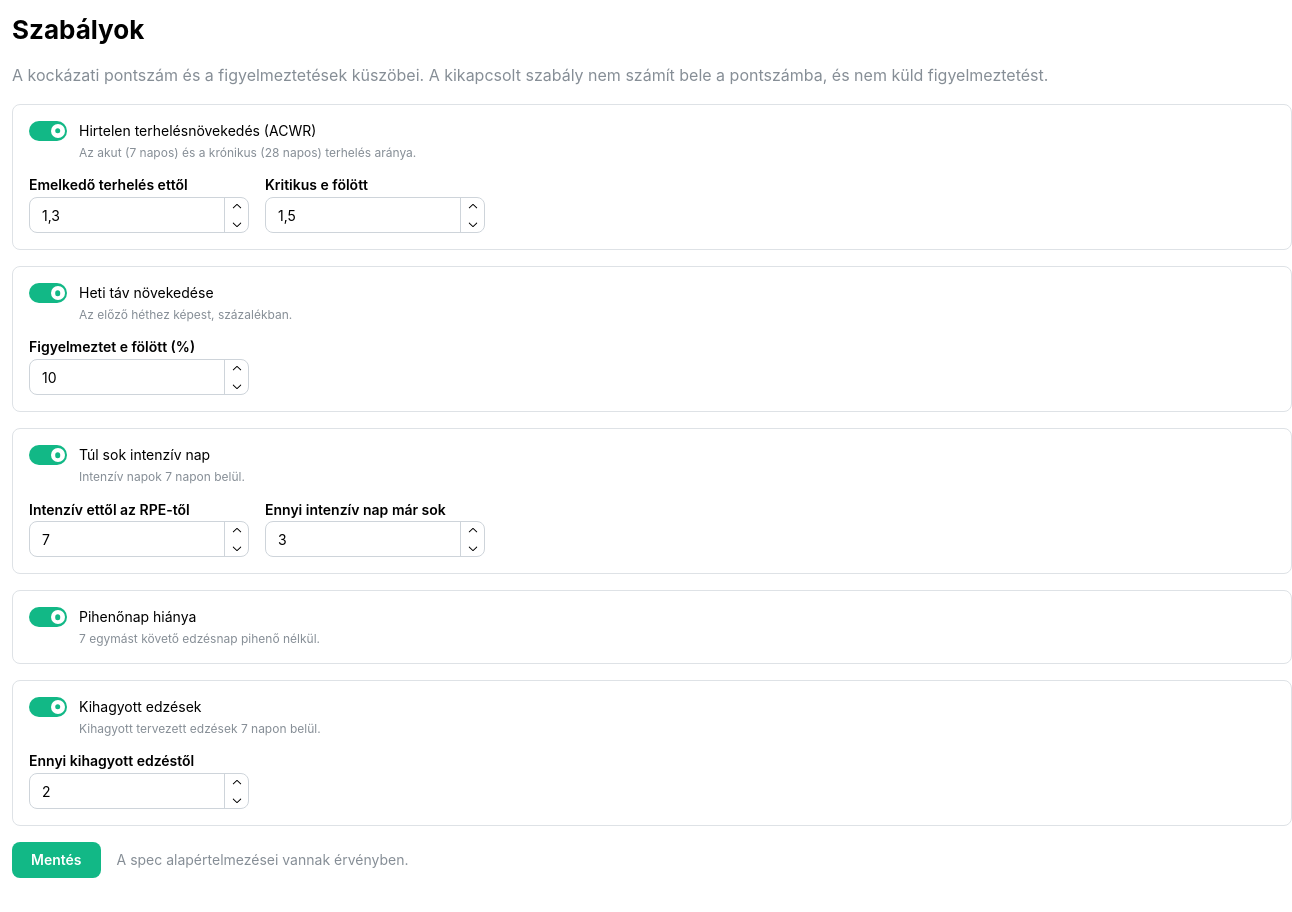
it: AdminRulesPage › a hibás küszöböt nem menti, a javítottat és a kikapcsolt szabályt igen
Later steps or results of the test are not shown.
Replace the text in the field labelled "Kritikus e fölött" with "1,2" at {"x": 375, "y": 215}, box [265, 197, 485, 233]
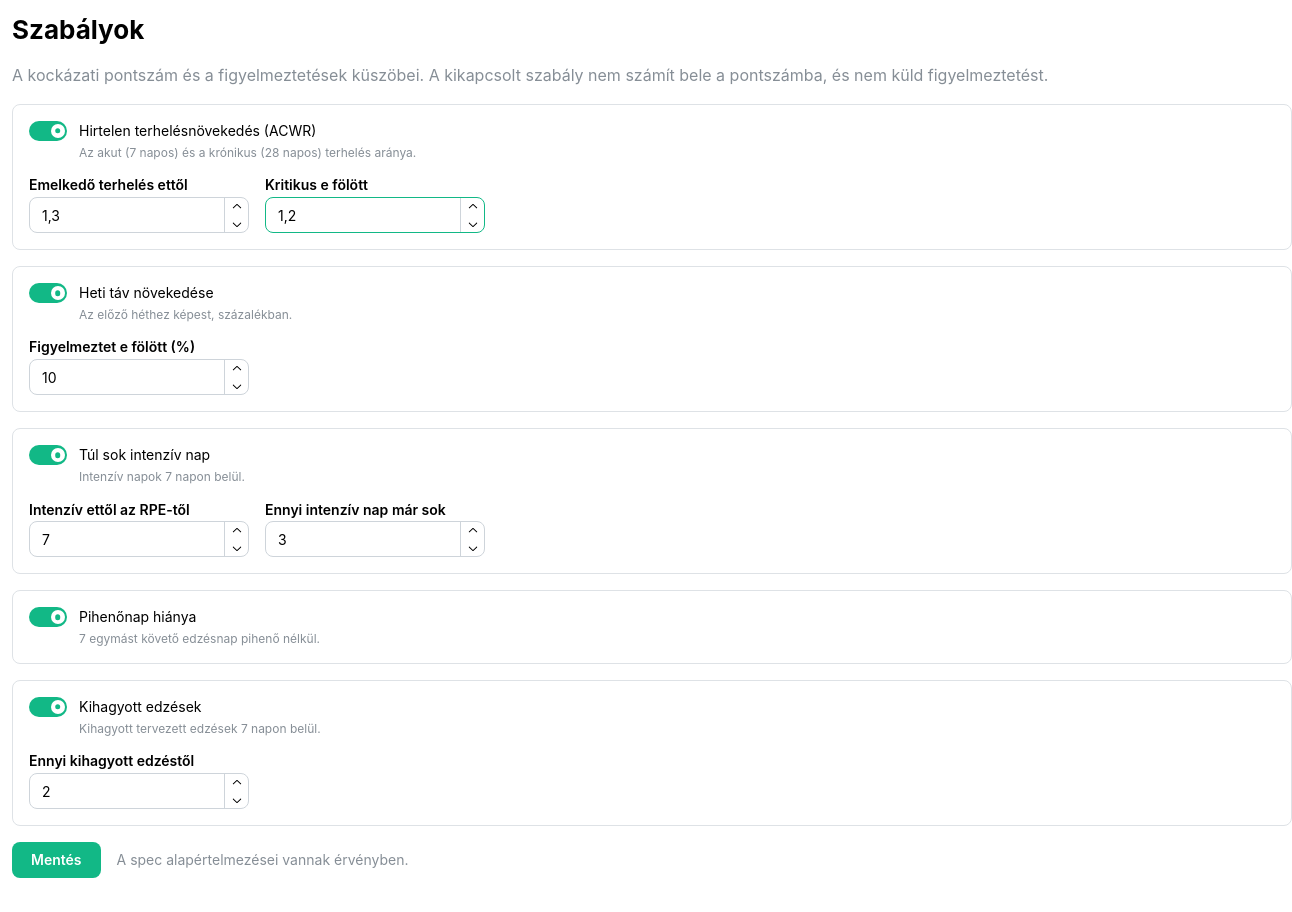
Click the button "Mentés" at {"x": 56, "y": 860}, box [12, 842, 100, 878]
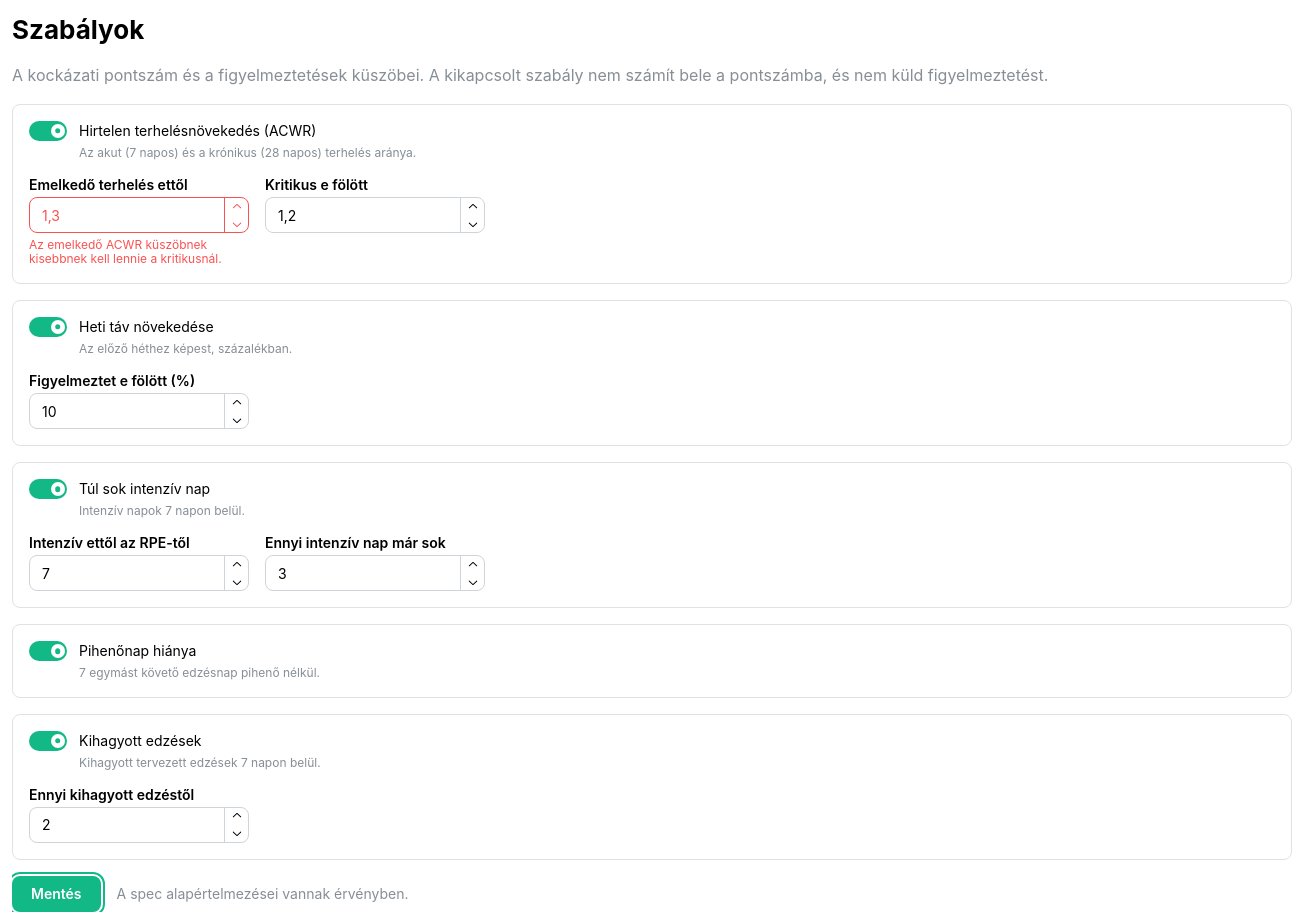
Expected: the text "Az emelkedő ACWR küszöbnek kisebbnek kell lennie a kritikusnál." is shown, [29, 238, 249, 267]
Replace the text in the field labelled "Kritikus e fölött" with "1,8" at {"x": 375, "y": 215}, box [265, 197, 485, 233]
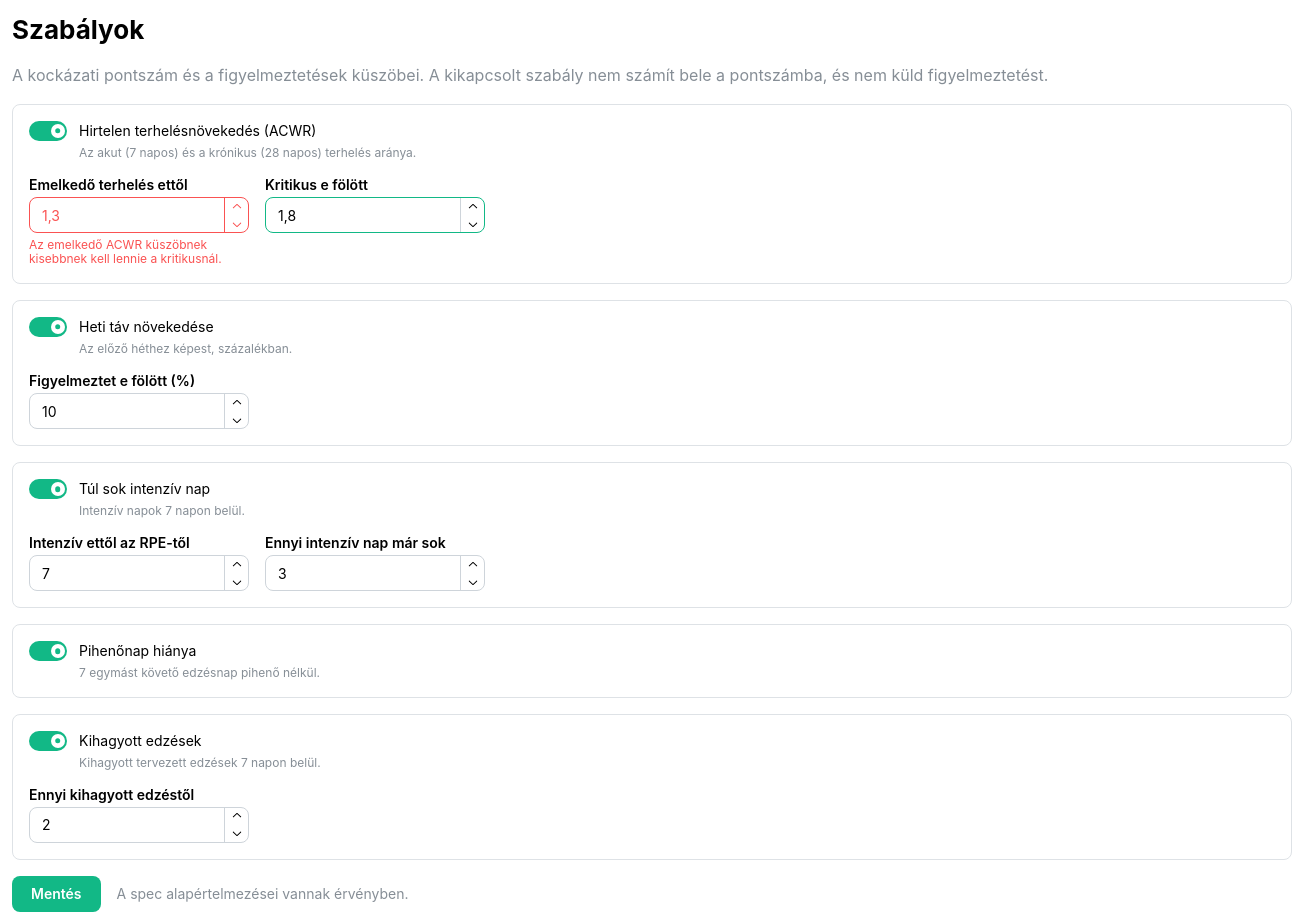
# A kikapcsolt szabály küszöbe nem szerkeszthető.
Click the switch labelled "Kihagyott edzések Kihagyott tervezett edzések 7 napon belül." at {"x": 175, "y": 750}, box [29, 731, 321, 770]
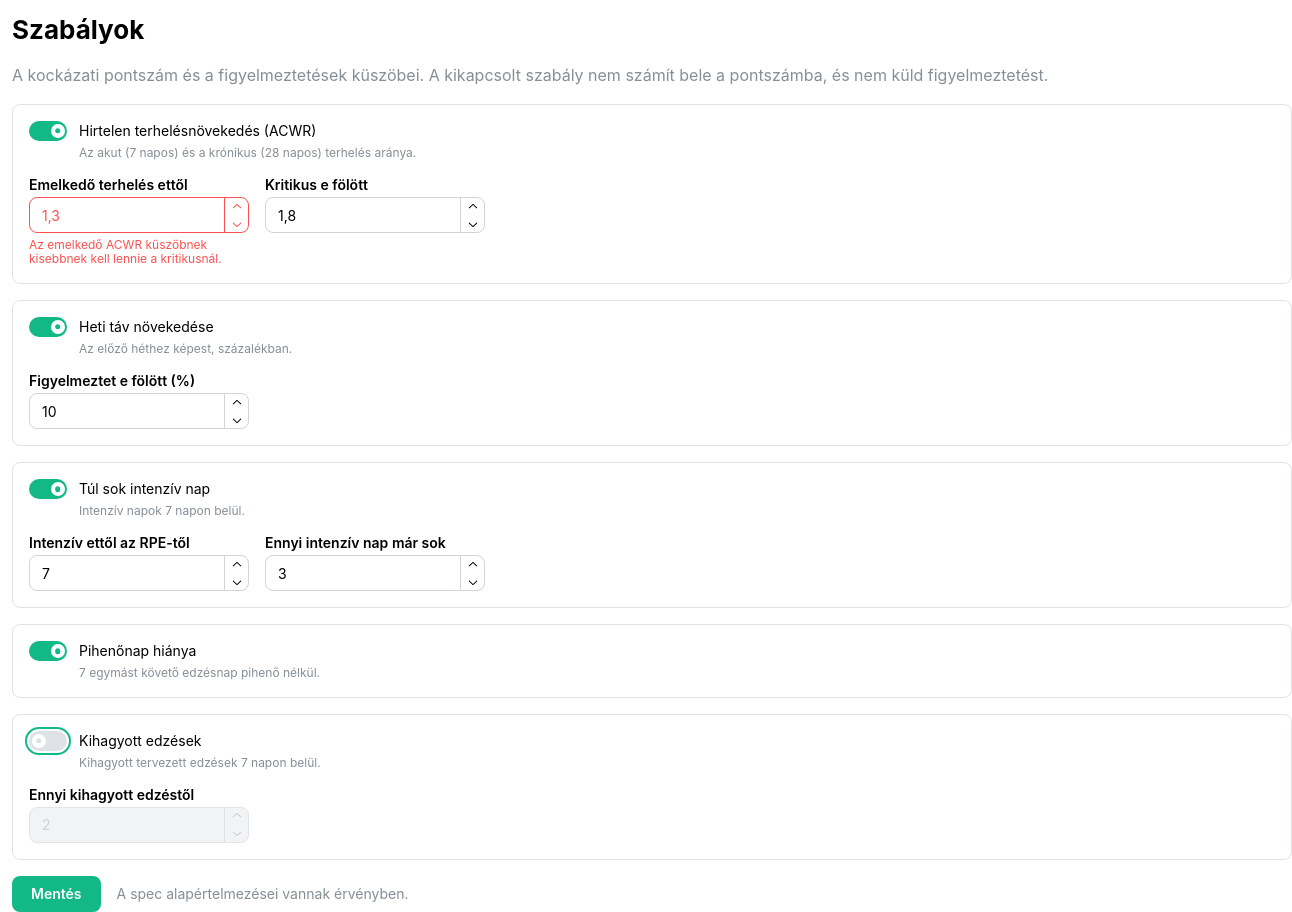
Expected: the field labelled "Ennyi kihagyott edzéstől" is disabled, [29, 807, 249, 843]
